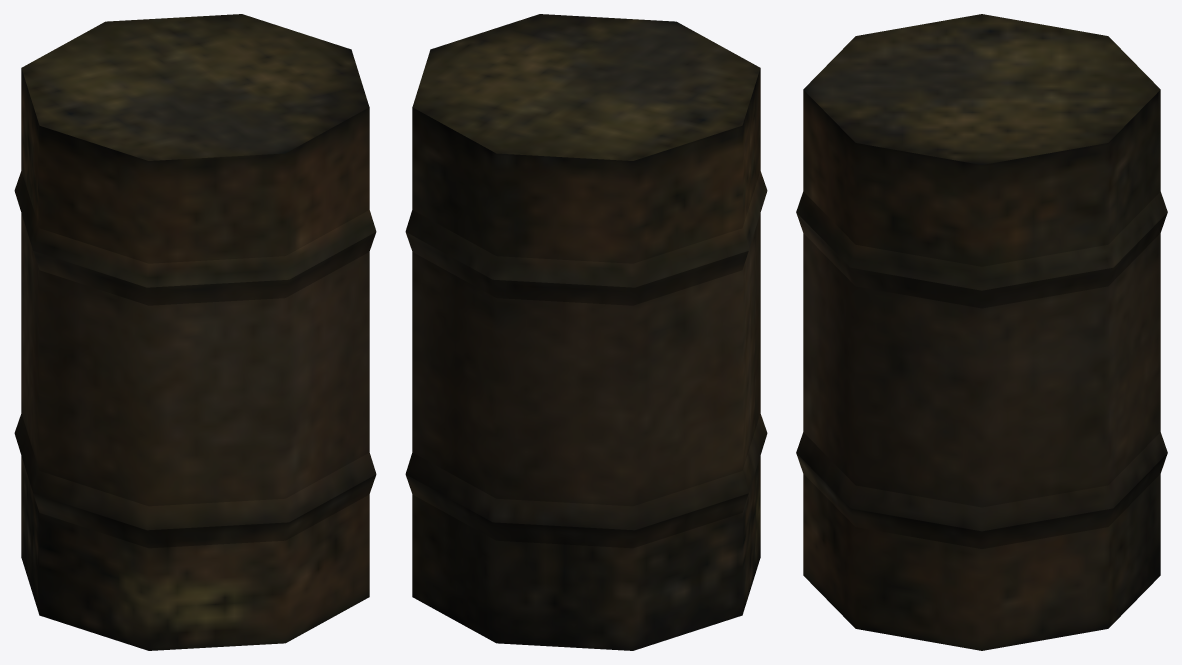
The model's file is metal_barrel_fps_2.obj.
3 views of the same model, side by side, from view 1: azimuth 30°, elevation 25°; view 2: azimuth 150°, elevation 25°; view 3: azimuth 270°, elevation 25° (orthographic).
Parts seen in each view (by area): view 1: metal_barrel_fps_2; view 2: metal_barrel_fps_2; view 3: metal_barrel_fps_2.
Boxes of the visible parts, x1=… form: metal_barrel_fps_2: x1=14, y1=14, x2=376, y2=650; metal_barrel_fps_2: x1=405, y1=14, x2=767, y2=650; metal_barrel_fps_2: x1=796, y1=14, x2=1167, y2=650.
Size of the model in its own units: 0.6739 by 0.972 by 0.6739.
